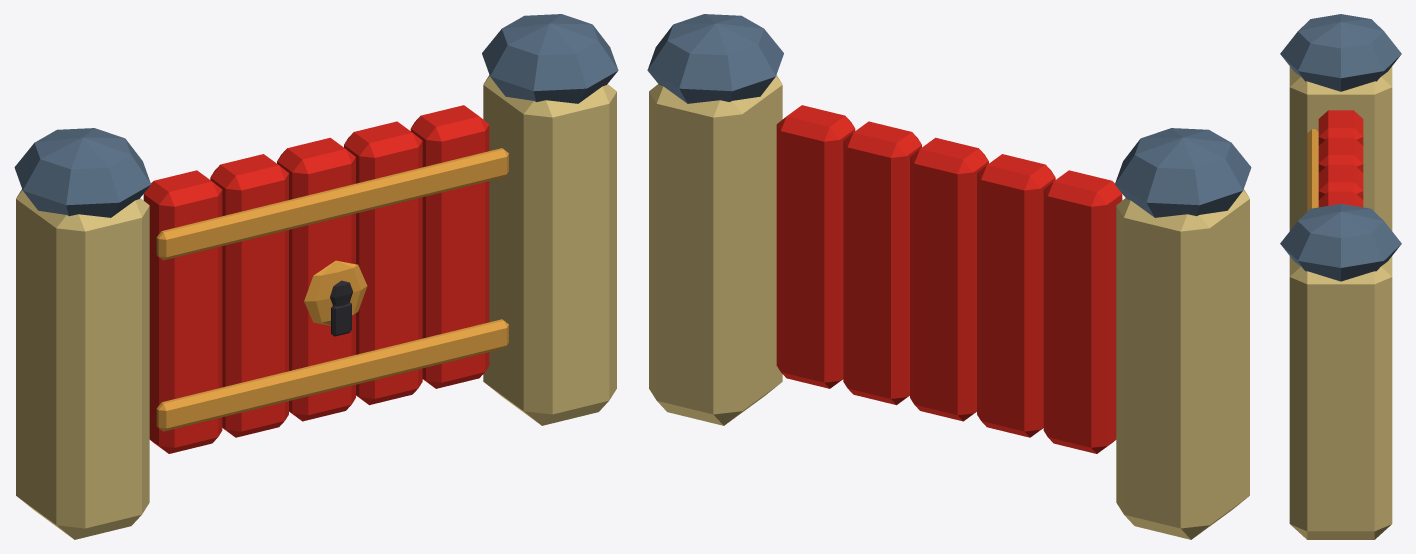
File: gate_red.glb
The picture shows the model from 3 angles, left to right: view 1: azimuth 30°, elevation 25°; view 2: azimuth 150°, elevation 25°; view 3: azimuth 270°, elevation 25°; orthographic projection. The views are drawn at different scales.
Visible parts, largest first — view 1: gate_red_Surface, gate_red_GateHinge_Surface; view 2: gate_red_Surface, gate_red_GateHinge_Surface; view 3: gate_red_Surface, gate_red_GateHinge_Surface.
Part boxes in pixels (x1,y1,x2,y2): gate_red_Surface: (14,14,618,539); gate_red_GateHinge_Surface: (143,105,508,453); gate_red_Surface: (647,14,1251,539); gate_red_GateHinge_Surface: (776,105,1122,453); gate_red_Surface: (1280,14,1401,539); gate_red_GateHinge_Surface: (1307,110,1363,211).
Size of the model in its own units: 1.76 by 1.09 by 0.38.
Materials: 1 (1 with a texture image).
